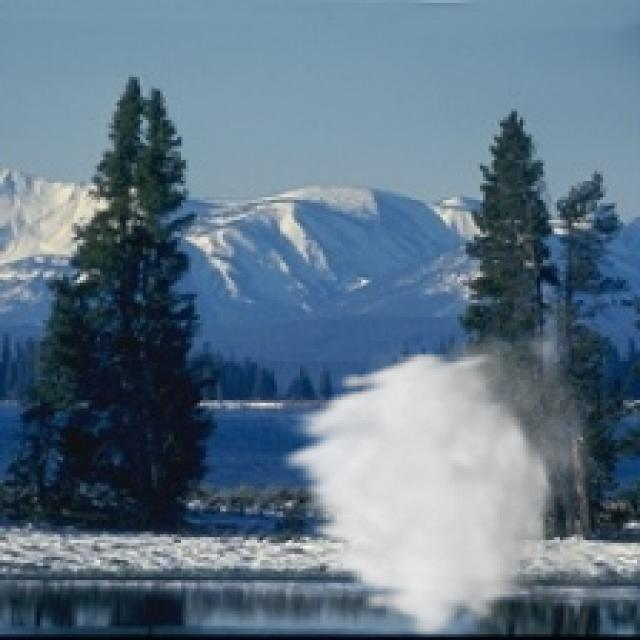smoke: (274, 289, 623, 637)
